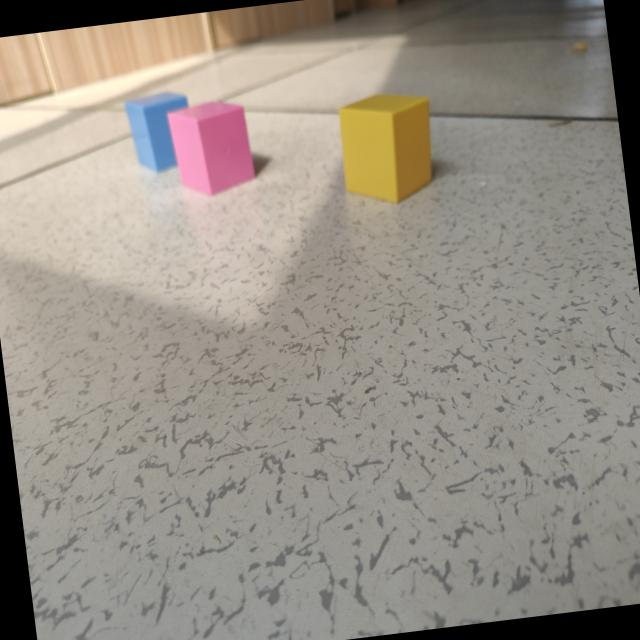blue: (125, 94, 190, 174)
pink: (167, 102, 260, 197)
yellow: (337, 94, 434, 205)
